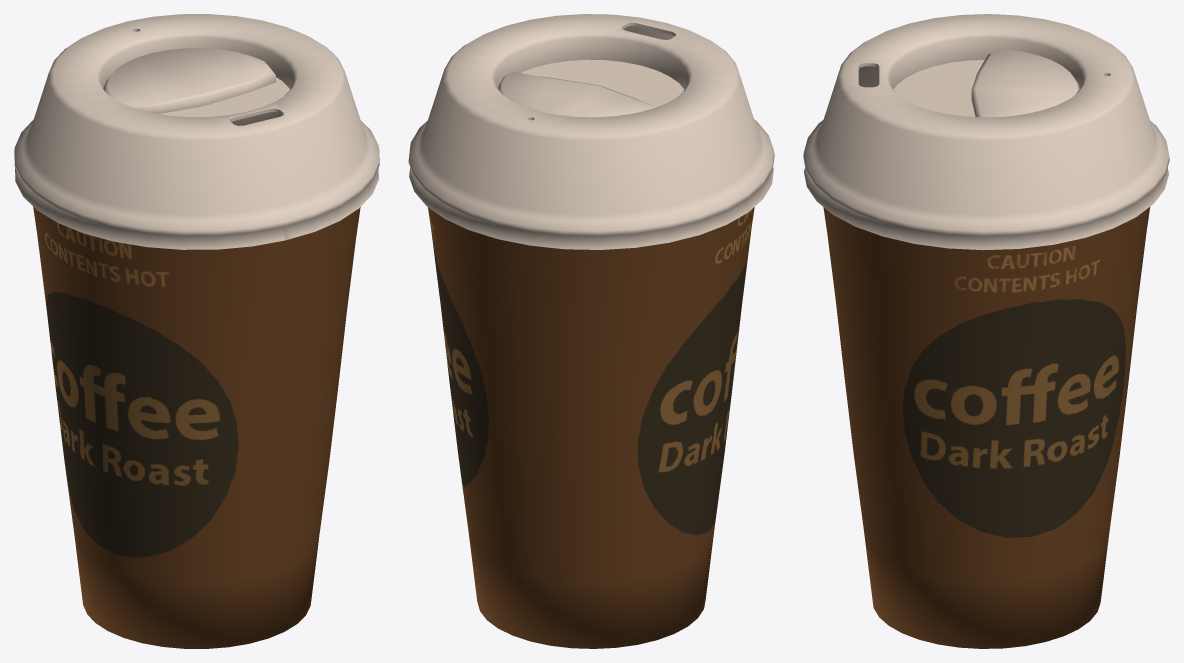
3 views of the same model, side by side, from view 1: azimuth 30°, elevation 25°; view 2: azimuth 150°, elevation 25°; view 3: azimuth 270°, elevation 25° (orthographic).
Visible parts, largest first — view 1: cup, lid; view 2: cup, lid; view 3: cup, lid.
Boxes of the visible parts, x1=… form: cup: x1=33, y1=206, x2=360, y2=648; lid: x1=14, y1=14, x2=379, y2=249; cup: x1=428, y1=207, x2=754, y2=648; lid: x1=408, y1=14, x2=774, y2=249; cup: x1=823, y1=207, x2=1150, y2=648; lid: x1=803, y1=14, x2=1169, y2=250.
Bounding box in the file's own units: 310 × 493 × 310.
2 materials, 2 textured.
